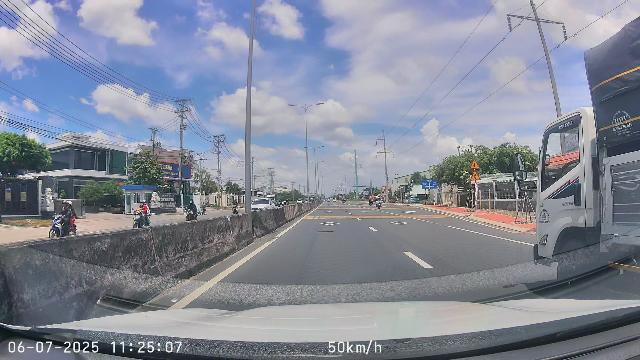209-giao-nhau-co-tin-hieu-den: (470, 170, 481, 181)
